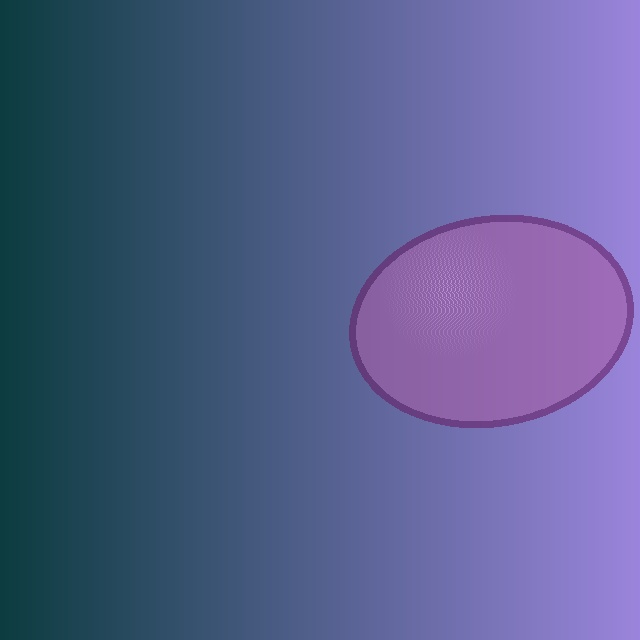lens: (353, 218, 629, 424)
